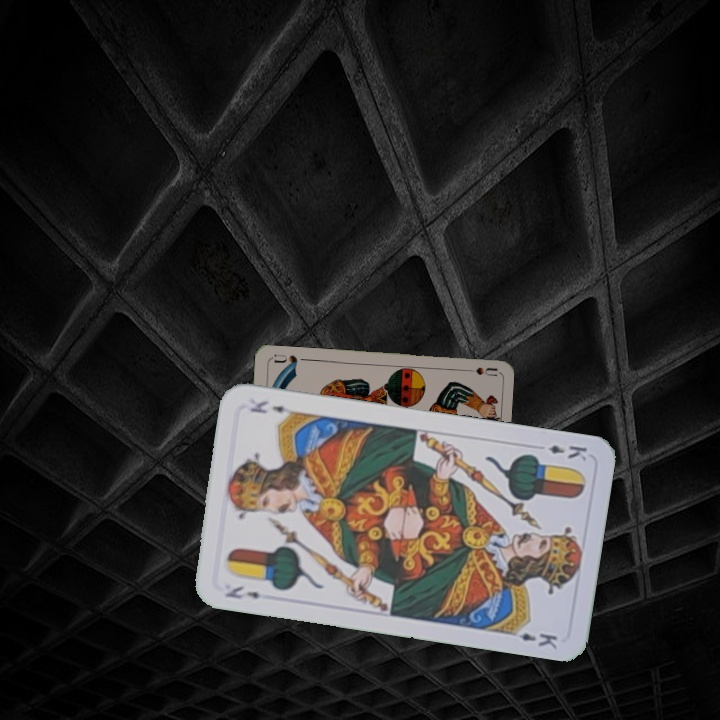EK: (221, 581, 274, 603), (545, 441, 590, 463)
SU: (457, 363, 498, 379)
